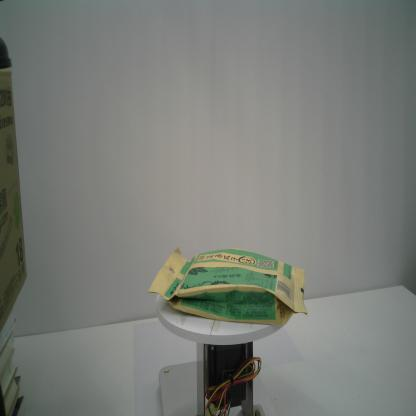Dried Food: (148, 246, 309, 326)
